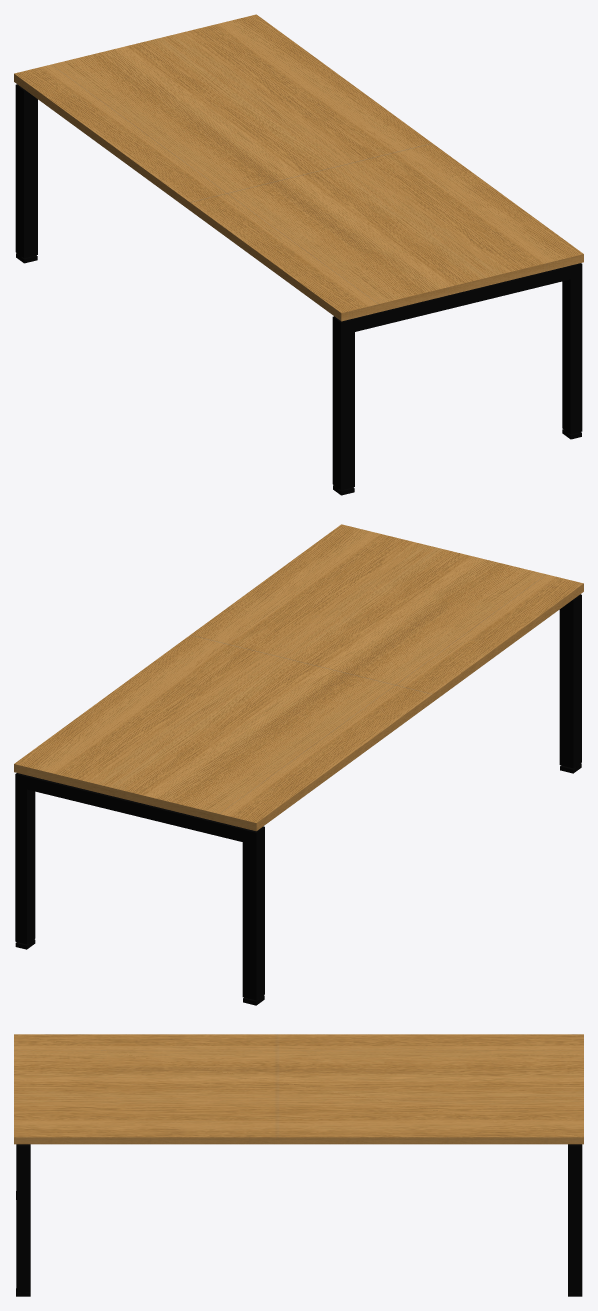
Rendered from Mesa salón.fbx.
3 views of the same model, one above another, from view 1: azimuth 30°, elevation 25°; view 2: azimuth 150°, elevation 25°; view 3: azimuth 270°, elevation 25° (orthographic). The views are drawn at different scales.
Visible parts, largest first — view 1: Mesa; view 2: Mesa; view 3: Mesa.
Boxes of the visible parts, left/top/right/bottom form: Mesa: left=14, top=14, right=583, bottom=495; Mesa: left=14, top=524, right=583, bottom=1005; Mesa: left=14, top=1034, right=583, bottom=1296.
Bounding box in the file's own units: 1615 × 1167 × 3777.
